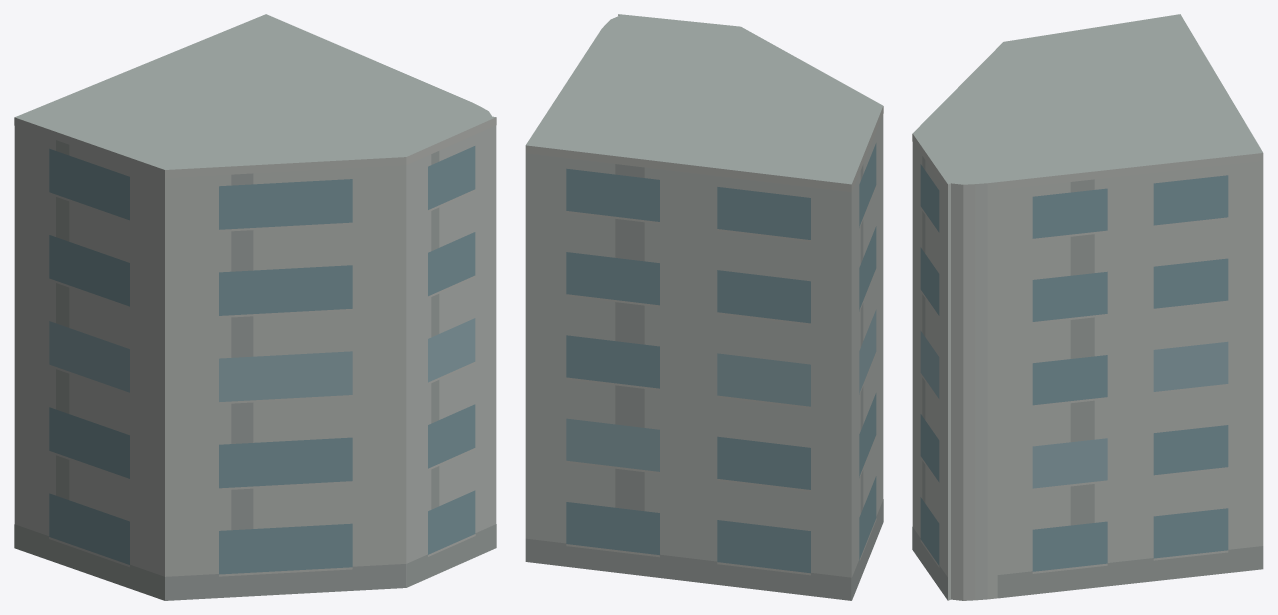
File: survey-upis-32905673.glb
3 renders of one model, left to right at view 1: azimuth 30°, elevation 25°; view 2: azimuth 150°, elevation 25°; view 3: azimuth 270°, elevation 25°, orthographic. The views are drawn at different scales.
Visible parts, largest first — view 1: survey-upis-32905673.tmp; view 2: survey-upis-32905673.tmp; view 3: survey-upis-32905673.tmp.
Boxes of the visible parts, <box> form: survey-upis-32905673.tmp: <box>14,14,496,600</box>; survey-upis-32905673.tmp: <box>525,14,883,600</box>; survey-upis-32905673.tmp: <box>912,14,1263,600</box>.
Size of the model in its own units: 11.26 by 12.8 by 9.79.
